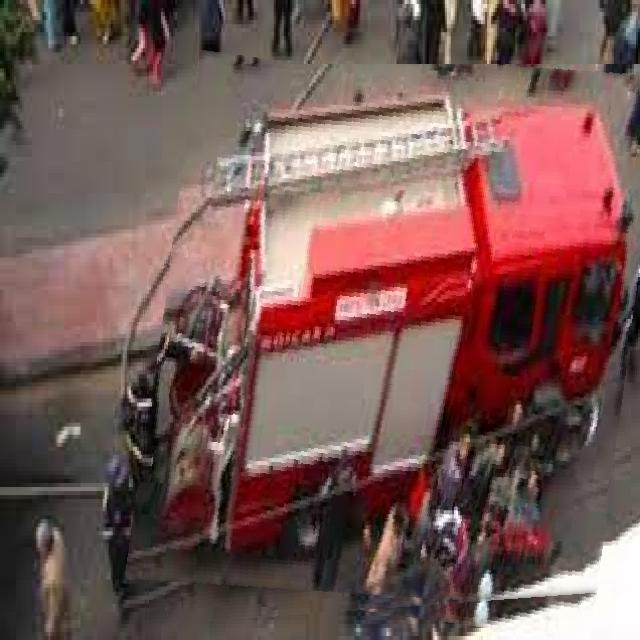Protection Civile: (142, 64, 640, 626)
